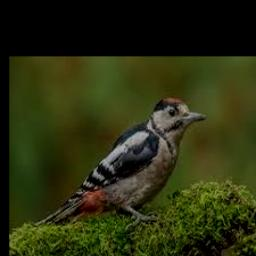Woodpecker: (36, 97, 206, 227)
